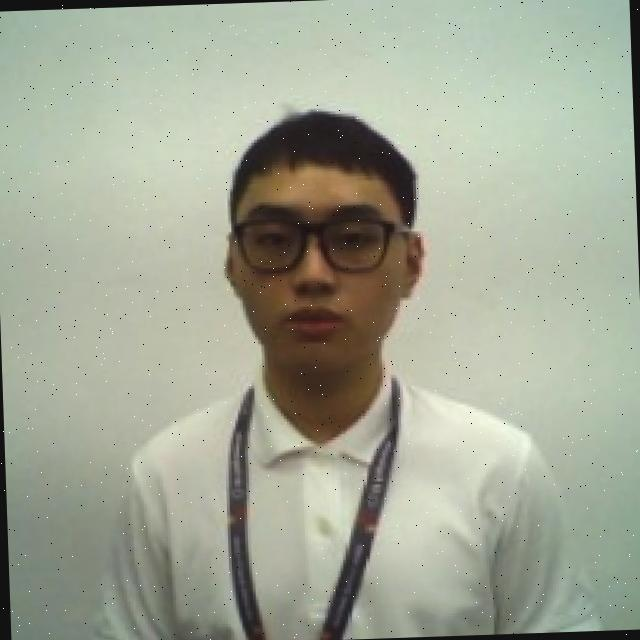no_gloves: (213, 98, 424, 230)
no_hairnet: (222, 227, 430, 378)
